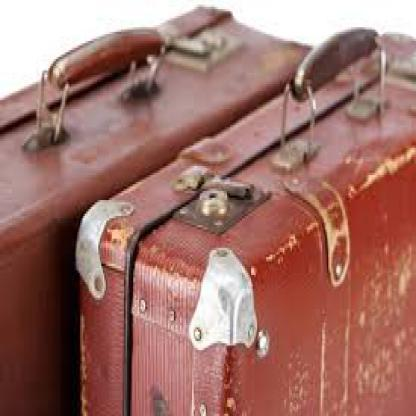maleta: (57, 13, 416, 414), (2, 7, 319, 414)
